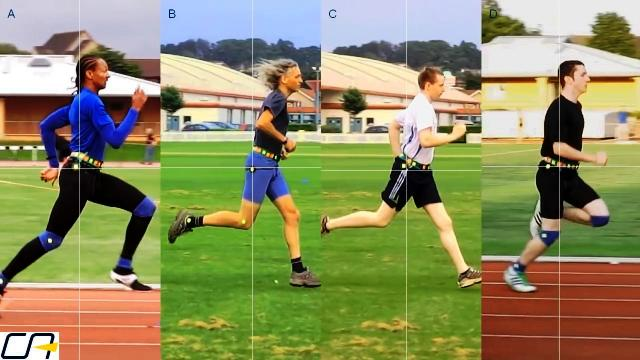berlari: (0, 53, 156, 308), (158, 52, 318, 294), (319, 64, 481, 302), (504, 50, 620, 300)
